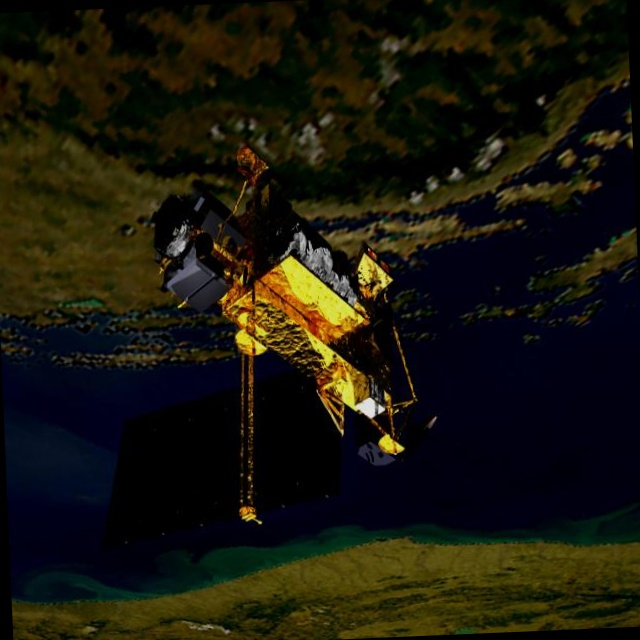satellite: (78, 123, 450, 569)
